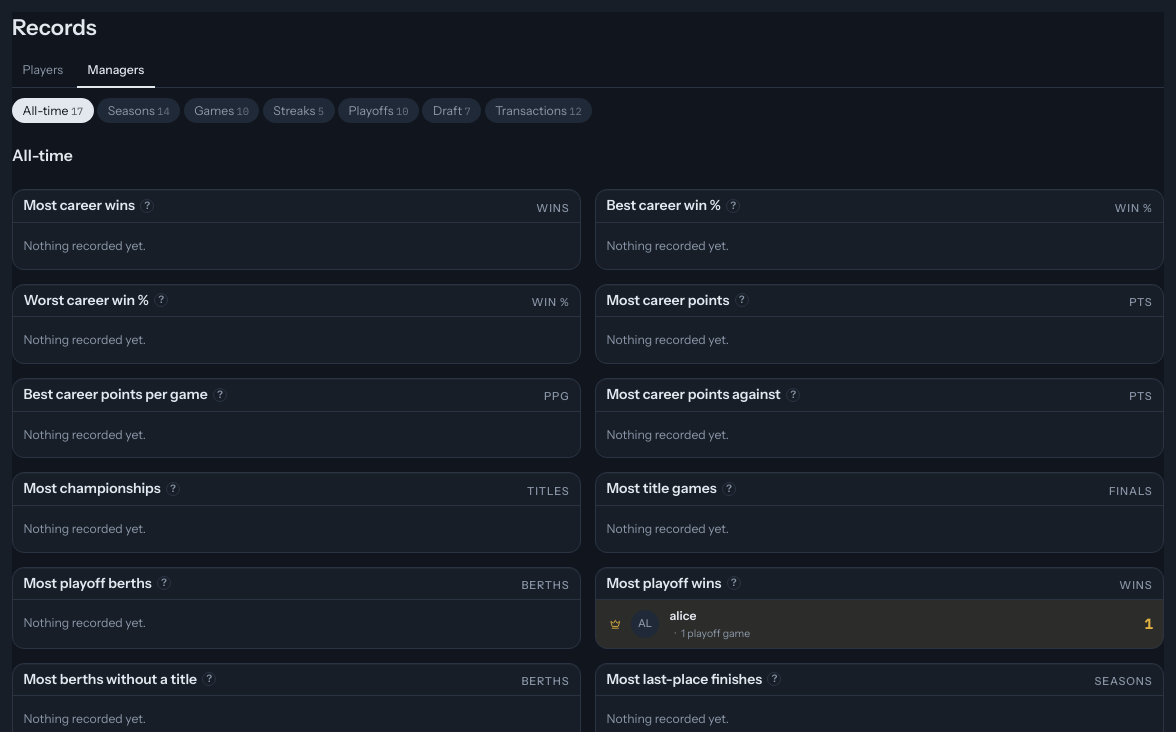
RecordsView › reads tab and sub from the URL and ignores a sub from the other tab or junk
Click the tab "Players" at x=43, y=71, box [12,54,74,88]
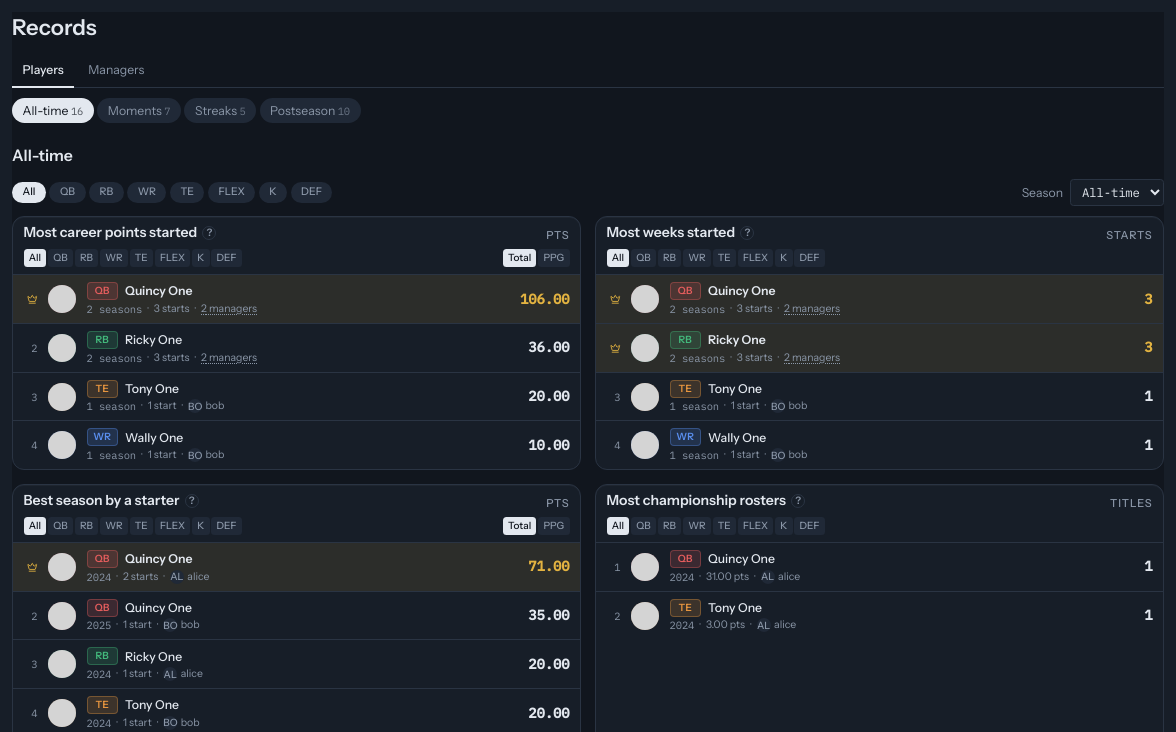
Click the tab "Postseason 10" at x=310, y=111, box [260,98,361,123]
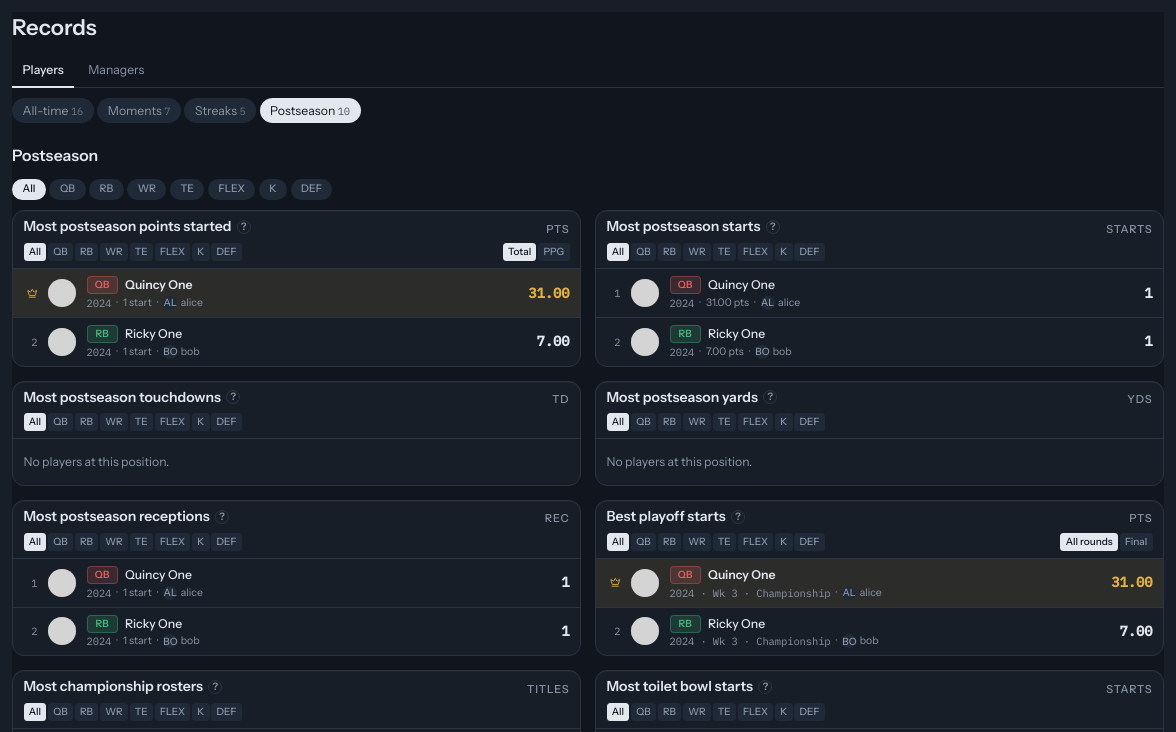
Expected: the heading "Most postseason points started" is shown, [24,218,231,236]
